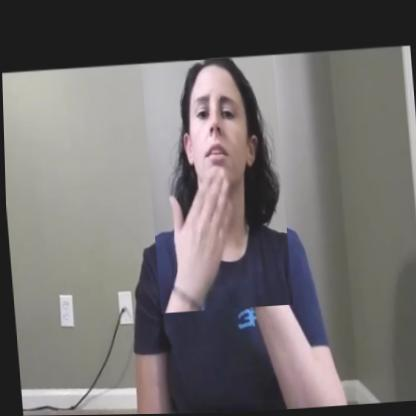ThankYou: (140, 56, 291, 313)
